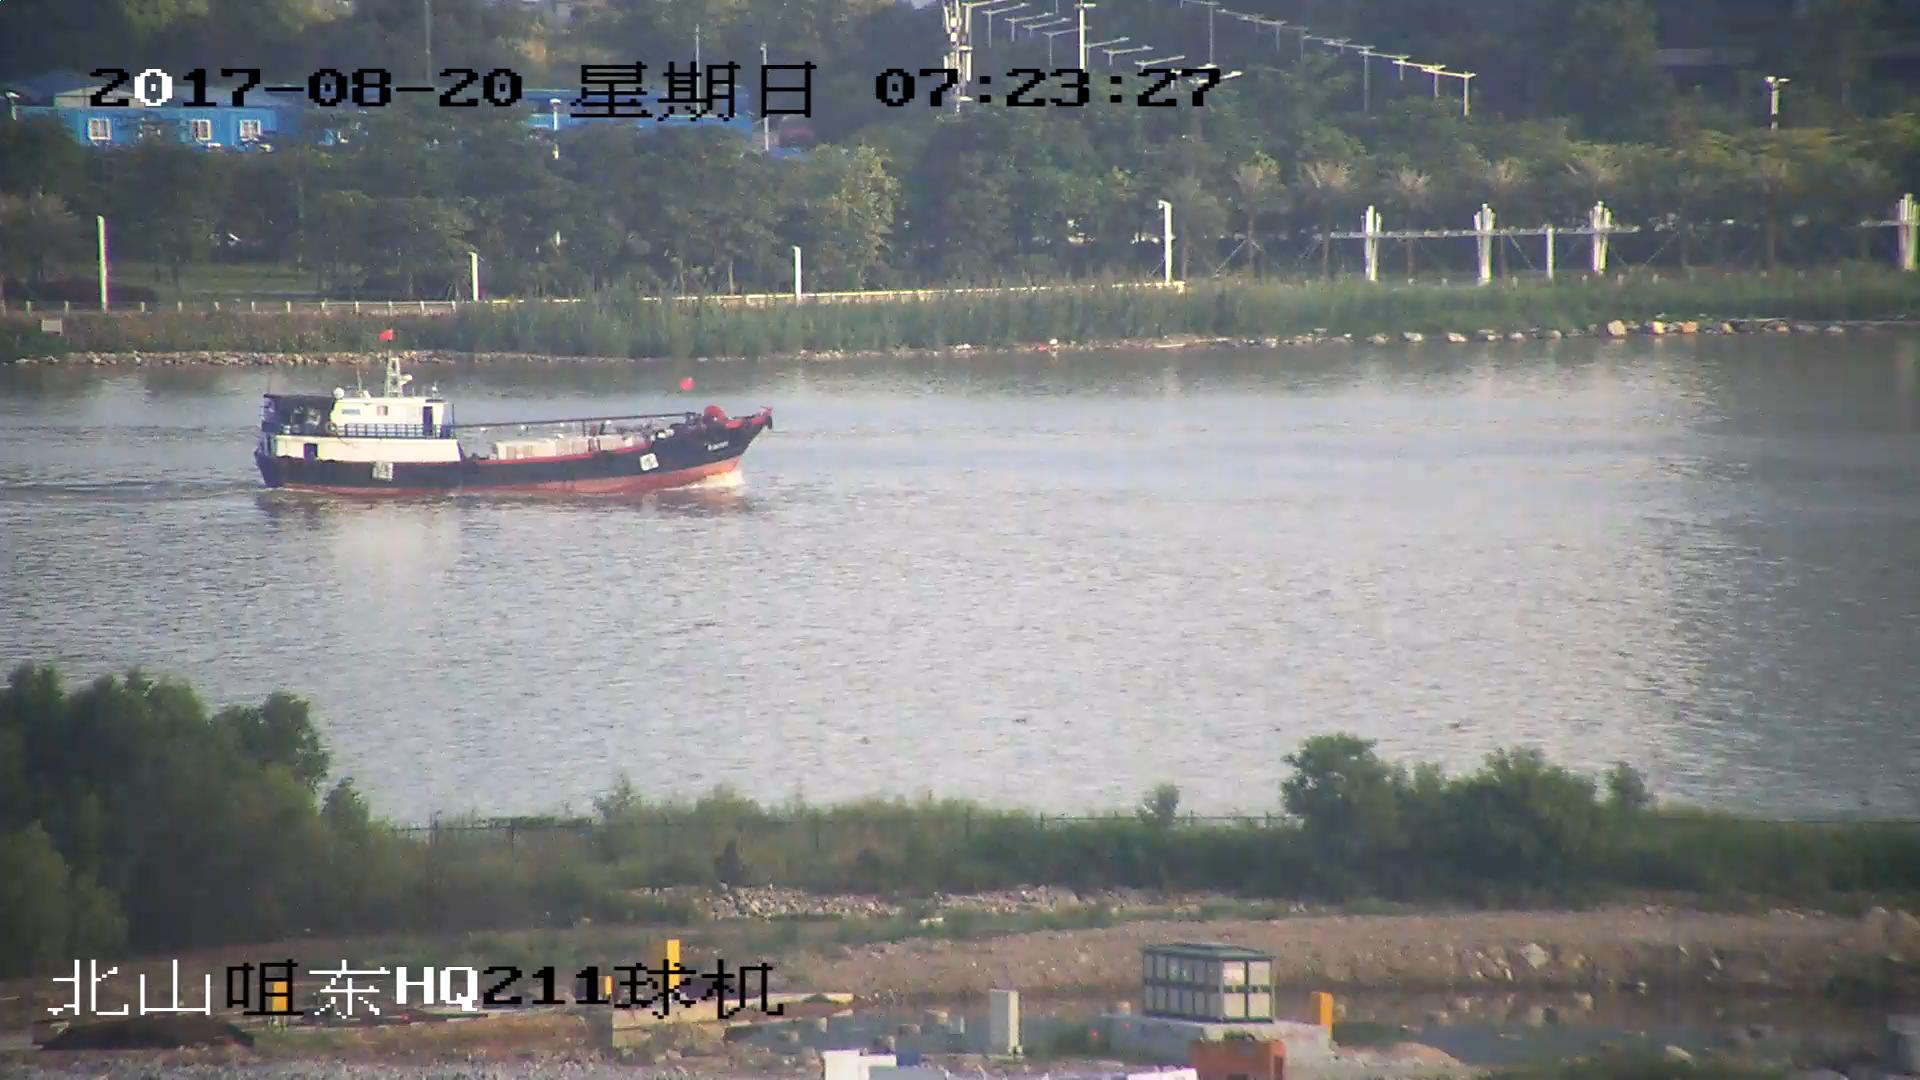fishing boat: (257, 351, 773, 498)
